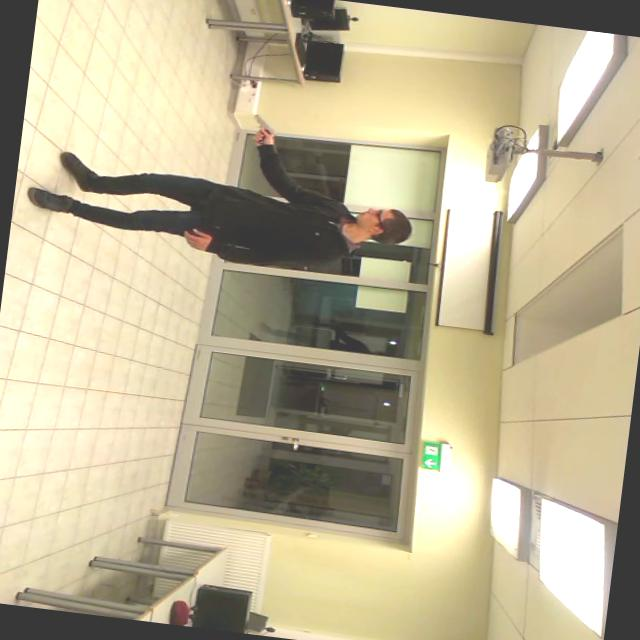handgun: (238, 101, 288, 140)
